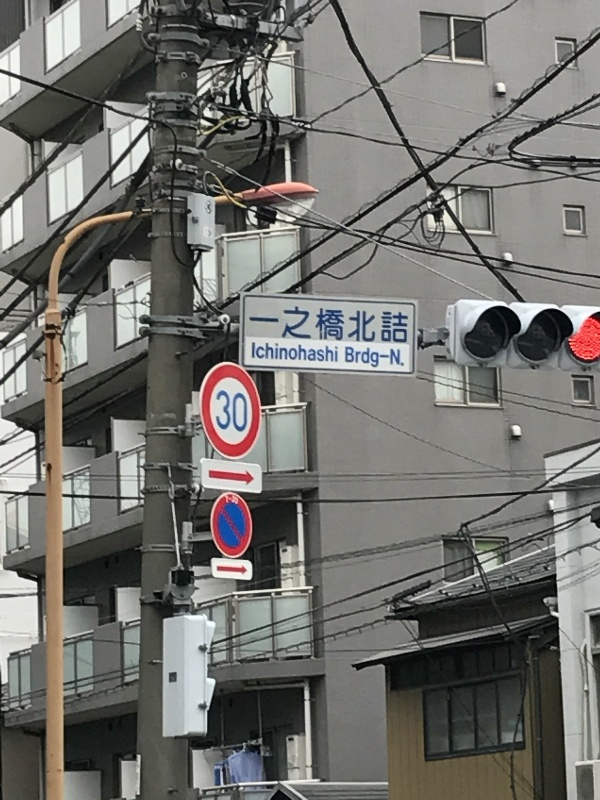text: (225, 389, 240, 436), (257, 301, 272, 347), (273, 301, 288, 347), (289, 301, 304, 347), (305, 301, 320, 347), (321, 301, 336, 347), (337, 301, 352, 347), (353, 301, 368, 347), (369, 301, 384, 347), (385, 301, 400, 347), (401, 301, 414, 347), (245, 301, 256, 347), (215, 389, 224, 436), (241, 389, 249, 436), (353, 346, 368, 367), (369, 346, 384, 367), (385, 346, 400, 367), (257, 343, 272, 362), (273, 343, 288, 362), (289, 343, 304, 362), (305, 343, 320, 362), (321, 343, 336, 362), (346, 346, 352, 367), (401, 346, 405, 367), (252, 343, 256, 362), (337, 343, 339, 362)
